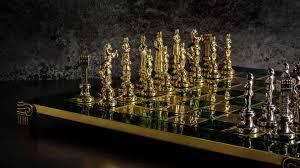board game: (17, 28, 299, 167)
